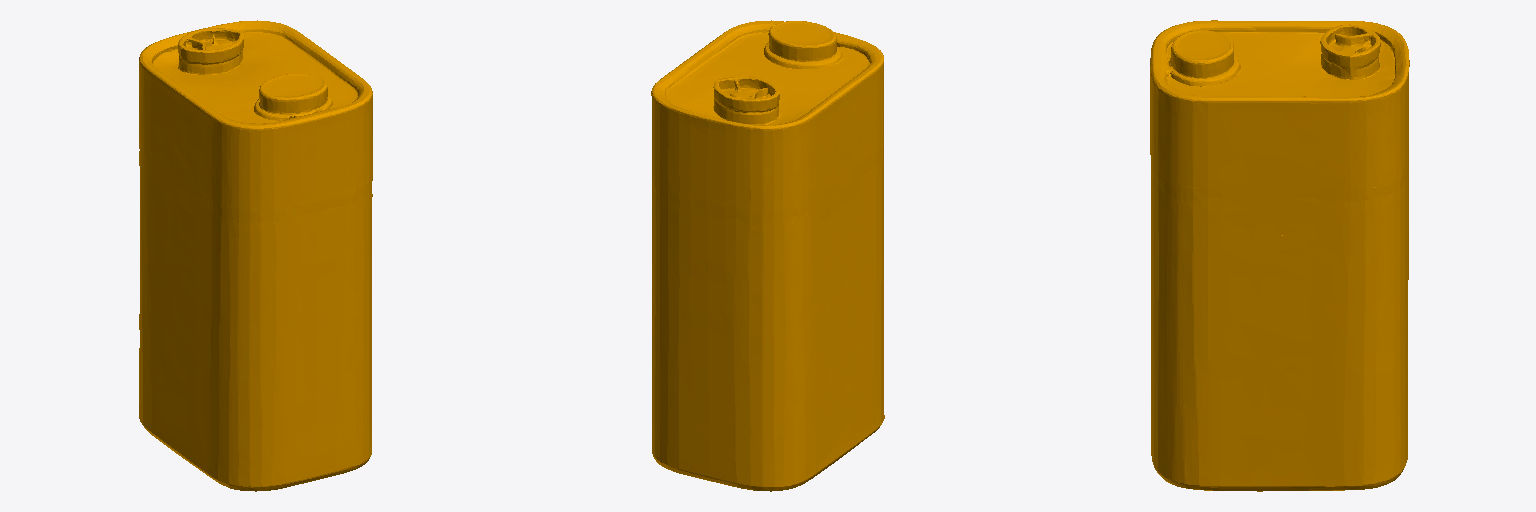
The robot description file, URDF, robot "sample":
<?xml version="1.0" ?>
<robot name="sample">
   <link name="sample">
      <visual>
         <origin xyz="0 0 0" rpy="1.5708 0.0 0.0"/>
         <geometry>
            <mesh filename="mesh/sample.obj" scale="1.0 1.0 1.0"/>
         </geometry>
      </visual>
      <collision>
         <origin xyz="0 0 0" rpy="1.5708 0.0 0.0"/>
         <geometry>
            <mesh filename="mesh/sample_collision.obj" scale="1.0 1.0 1.0"/>
         </geometry>
         <gazebo>
            <mu1>0.40</mu1>
            <mu2>0.30</mu2>
         </gazebo>
      </collision>
      <inertial>
         <mass value="0.0750"/>
         <origin xyz="0 0 0"/>
         <inertia ixx="1.0" ixy="0.0" ixz="0.0" iyy="1.0" iyz="0.0" izz="1.0"/>
      </inertial>
      <extra_info>
         <scale>0.070000</scale>
         <version>v0.1.7</version>
         <category>battery</category>
         <description>cylindrical battery with red stripe and branding</description>
         <min_height>0.06</min_height>
         <max_height>0.08</max_height>
         <real_height>0.07</real_height>
         <min_mass>0.05</min_mass>
         <max_mass>0.1</max_mass>
         <color>grey</color>
         <rgba>[0.7, 0.7, 0.7, 1.0]</rgba>
         <generate_time>20260625094846</generate_time>
         <gs_model>mesh/sample_gs.ply</gs_model>
      </extra_info>
   </link>
   <custom_data>
      <quality>
         <MeshGeoChecker>YES</MeshGeoChecker>
         <ImageSegChecker>NO, background not fully removed, object not isolated properly.</ImageSegChecker>
         <ImageAestheticChecker>4.581092000007629</ImageAestheticChecker>
         <overall>NO</overall>
      </quality>
   </custom_data>
</robot>

--- Facts derived from the render (not from the file) ---
The picture shows the robot from 3 angles, left to right: view 1: azimuth 30°, elevation 25°; view 2: azimuth 150°, elevation 25°; view 3: azimuth 270°, elevation 25°; orthographic projection.
Model sample with 1 links and 0 joints (none), rooted at sample, posed every joint at zero.
Links seen in each view (by area): view 1: sample; view 2: sample; view 3: sample.
Link boxes in pixels (x1,y1,x2,y2): sample: (139, 20, 372, 491); sample: (651, 20, 884, 491); sample: (1150, 20, 1409, 491).
Bounding box of the posed robot: 0.0294 × 0.0401 × 0.07 m (x, y, z).
1 mesh visuals loaded from 1 distinct referenced files (1 OBJ).
